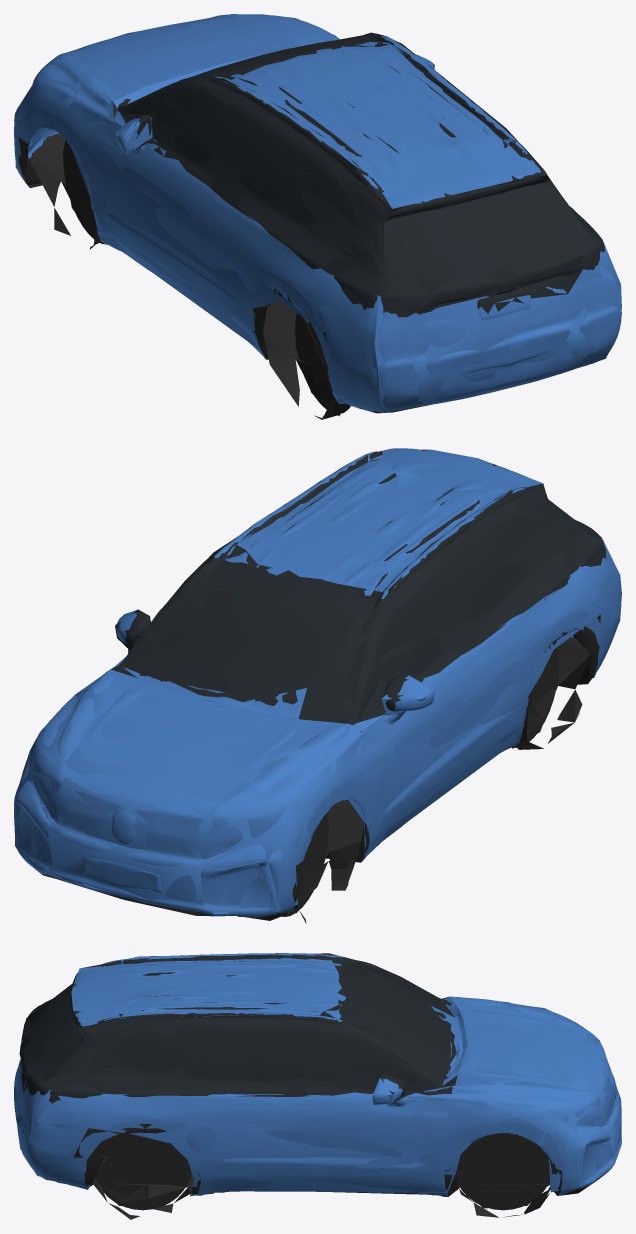
Rendered from volkswagen-touareg.glb.
3 views of the same model, one above another, from view 1: azimuth 30°, elevation 25°; view 2: azimuth 150°, elevation 25°; view 3: azimuth 270°, elevation 25° (orthographic). The views are drawn at different scales.
Visible parts, largest first — view 1: body, far; view 2: body, far; view 3: body, far.
Boxes of the visible parts, <box> form: body: <box>14,14,621,419</box>; far: <box>14,14,621,419</box>; body: <box>14,448,621,920</box>; far: <box>15,449,621,923</box>; body: <box>14,953,621,1219</box>; far: <box>14,953,621,1214</box>.
Bounding box in the file's own units: 2.28 × 1.7 × 4.94.
